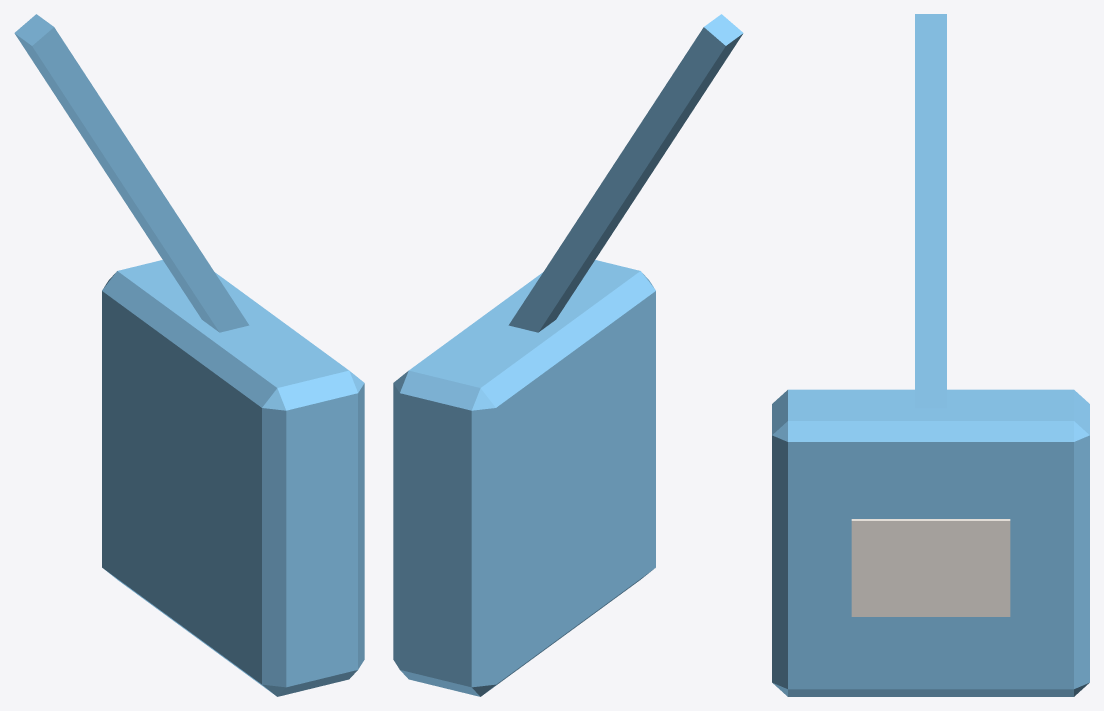
Rendered from CleanACat_NPC_ToteBag.fbx.
The picture shows the model from 3 angles, left to right: view 1: azimuth 30°, elevation 25°; view 2: azimuth 150°, elevation 25°; view 3: azimuth 270°, elevation 25°; orthographic projection. The views are drawn at different scales.
Parts seen in each view (by area): view 1: CleanACat_NPC_ToteBag; view 2: CleanACat_NPC_ToteBag; view 3: CleanACat_NPC_ToteBag.
Part boxes in pixels (x1=…): CleanACat_NPC_ToteBag: x1=14, y1=14, x2=364, y2=696; CleanACat_NPC_ToteBag: x1=393, y1=14, x2=743, y2=696; CleanACat_NPC_ToteBag: x1=772, y1=14, x2=1089, y2=696.
Size of the model in its own units: 1.04 by 2.44 by 1.2.
Materials: 1 (1 with a texture image).
